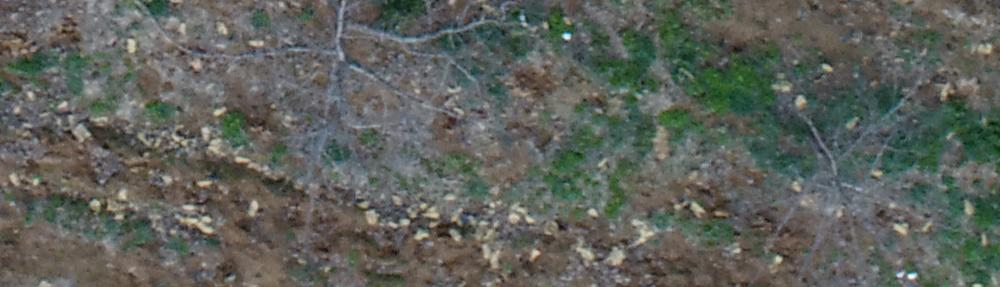apple: (152, 10, 526, 185), (726, 71, 956, 262)
